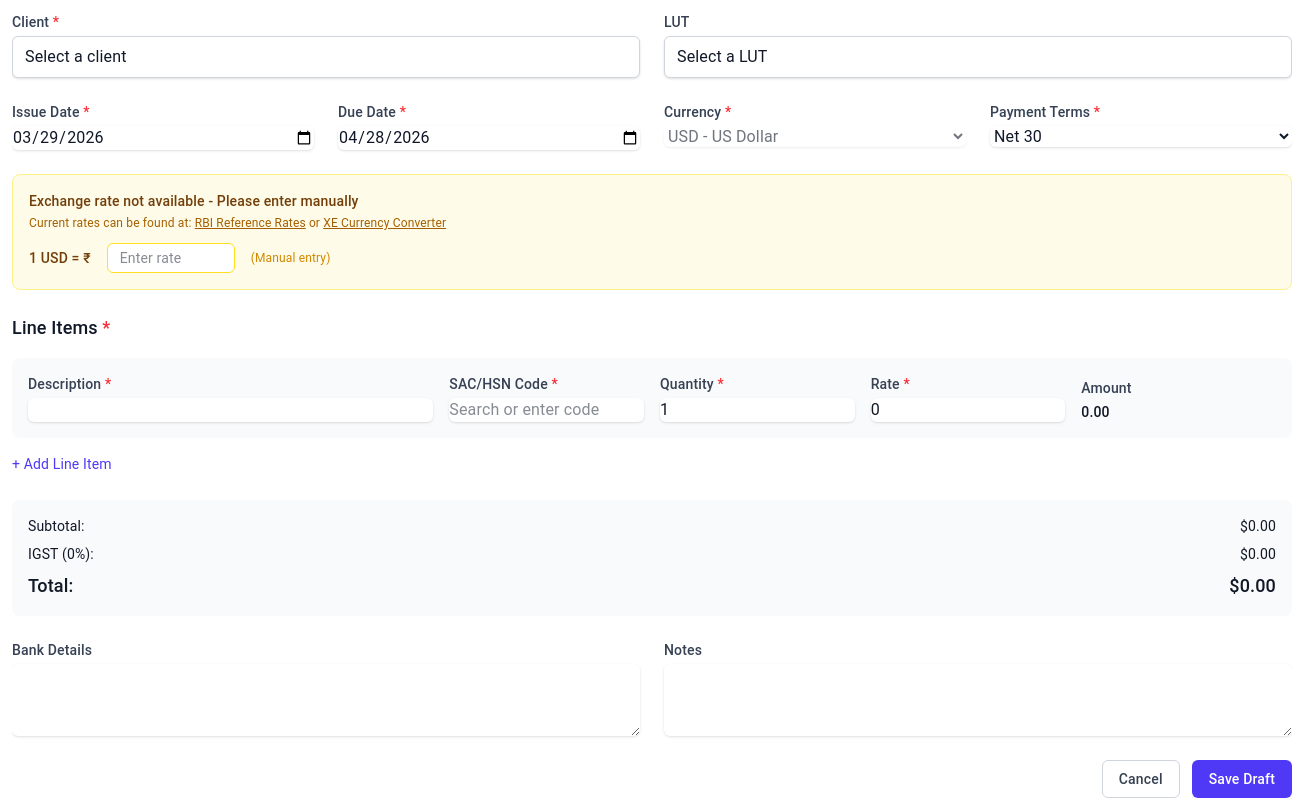
Test case: InvoiceForm › should calculate line item amounts correctly
Replace the text in the number field labelled "Quantity *" with "10" at {"x": 757, "y": 410}, box [660, 398, 855, 422]
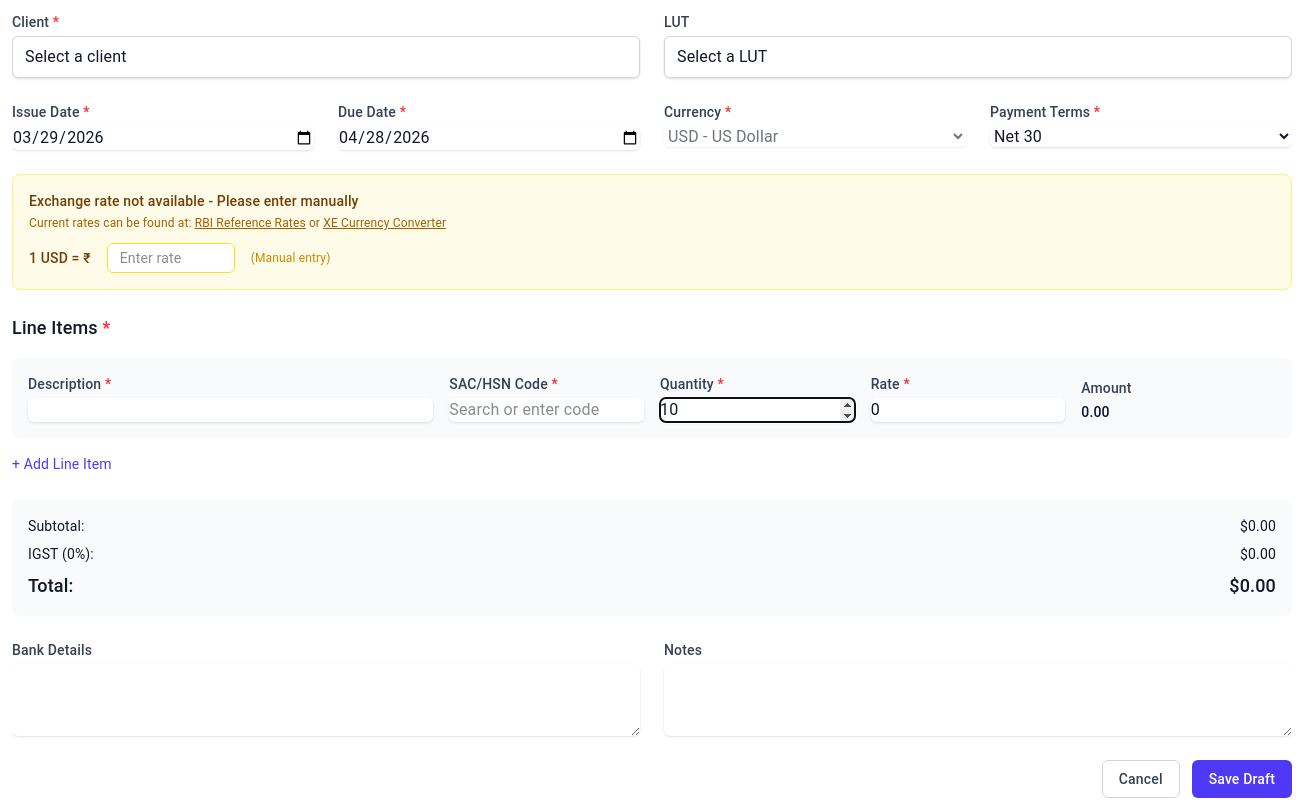
Replace the text in the number field labelled "Rate *" with "100" at {"x": 968, "y": 410}, box [871, 398, 1065, 422]
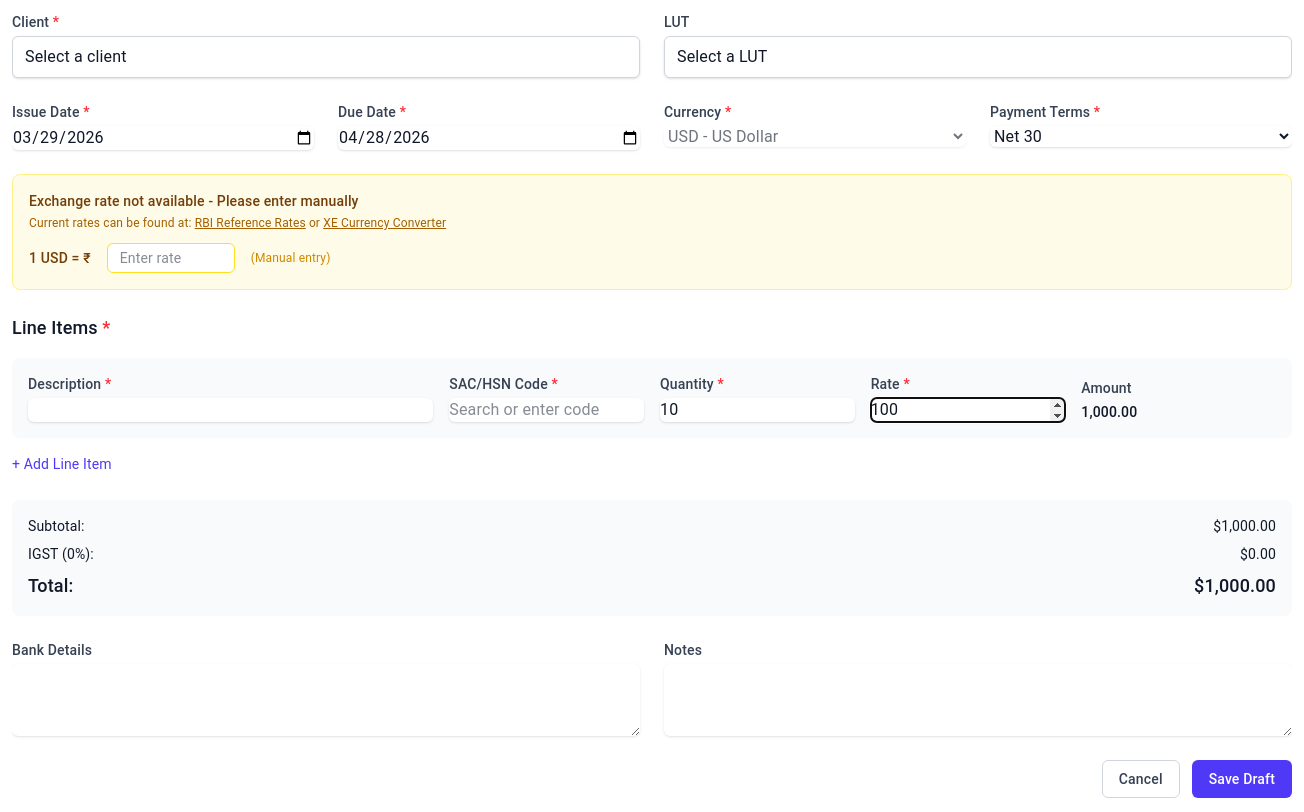
Expected: the text "1,000.00" is shown, [1081, 404, 1137, 420]
